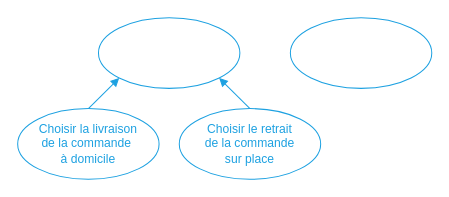
Some shapes in this 449 by 197 pixel diagram are drawn without their labels. Each missing label, with the box of its shape:
Choisir le mode de livraison de la commande: (97, 17, 240, 88)
Délivrer une commande retirée sur place: (289, 17, 432, 88)
